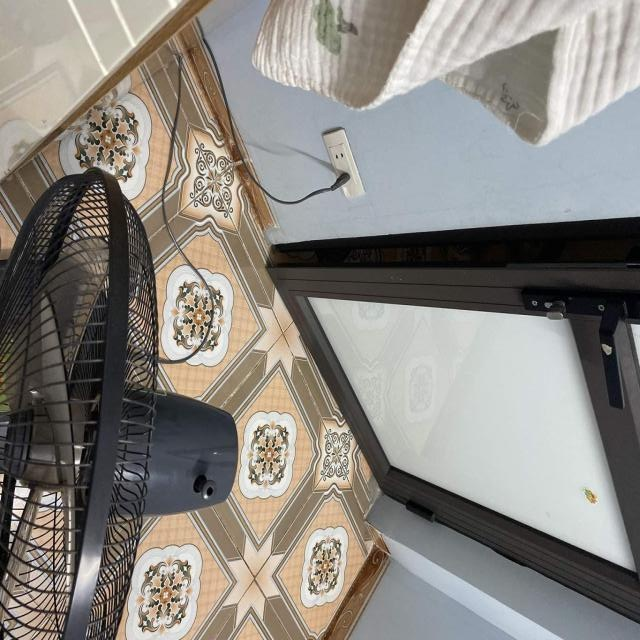outlet: (322, 127, 366, 198)
